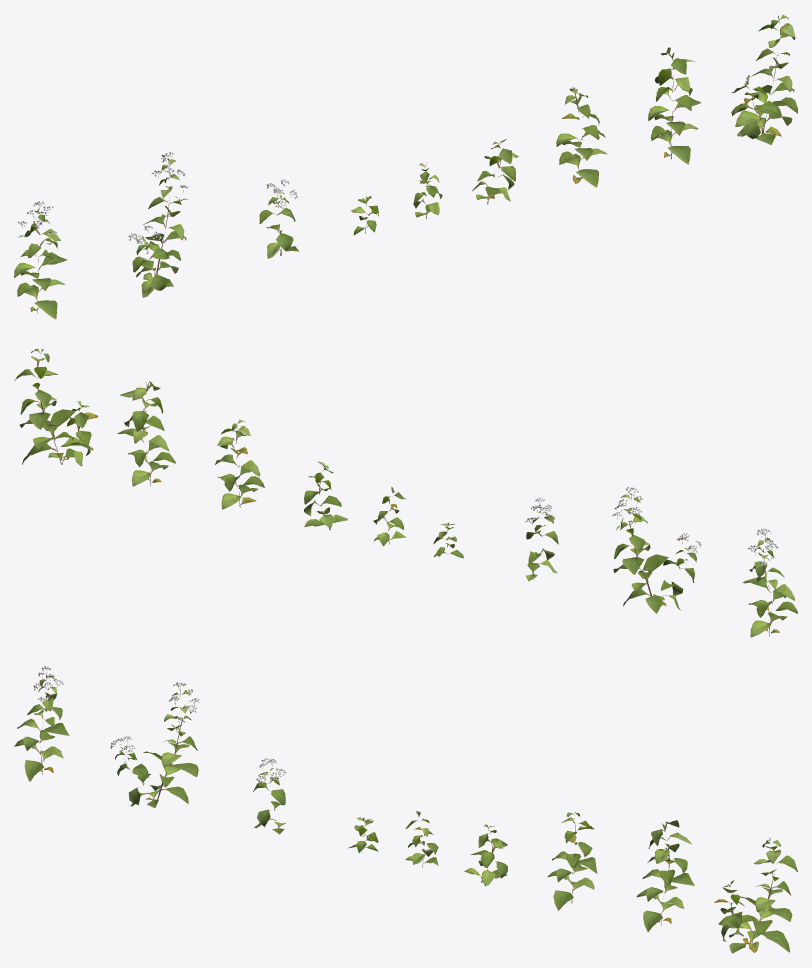
3 views of the same model, one above another, from view 1: azimuth 30°, elevation 25°; view 2: azimuth 150°, elevation 25°; view 3: azimuth 330°, elevation 25° (orthographic). The views are drawn at different scales.
Visible parts, largest first — view 1: shrub_01_a; view 2: shrub_01_a; view 3: shrub_01_a.
Part boxes in pixels (x1,y1,x2,y2): shrub_01_a: [14, 14, 797, 319]; shrub_01_a: [14, 348, 797, 637]; shrub_01_a: [14, 666, 797, 953].
Bounding box in the file's own units: 2.59 × 0.3954 × 0.2174.
Materials: 1 (1 with a texture image).
